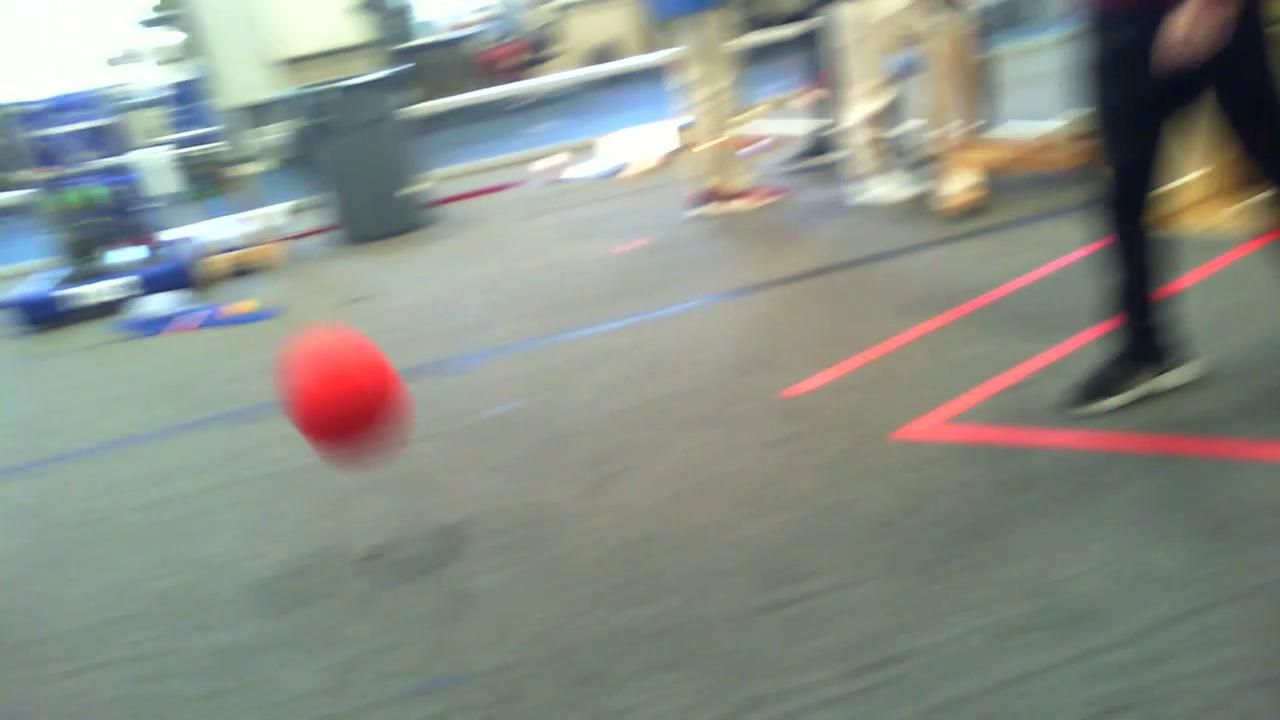Red_Ball: (268, 324, 406, 445)
